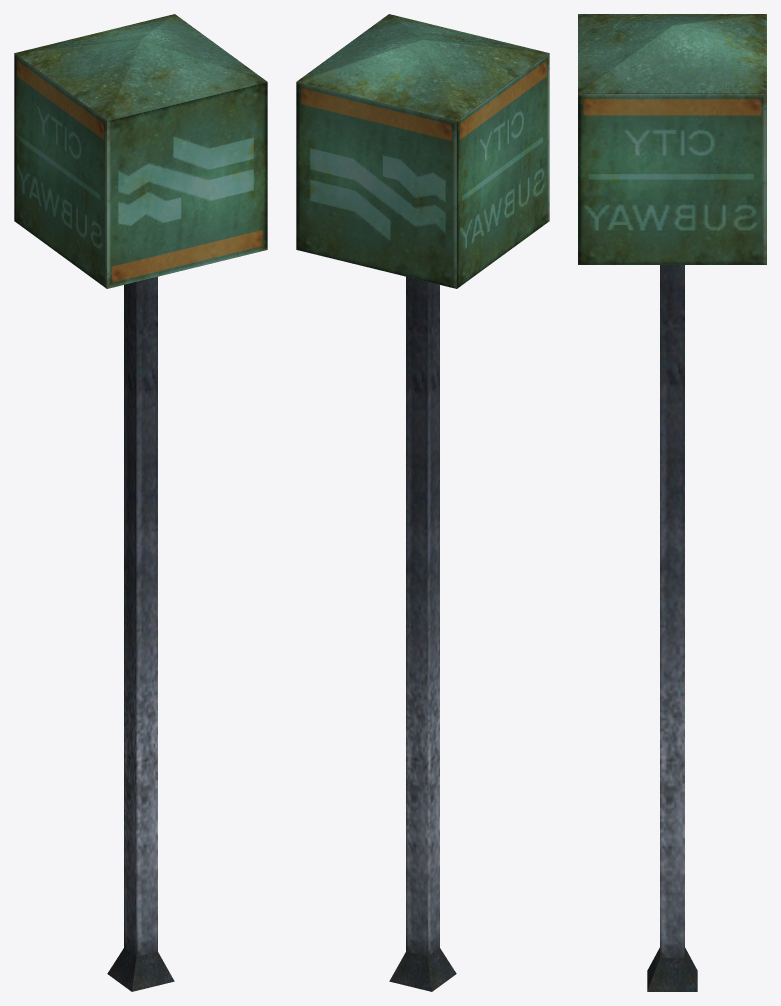
Rendered from subway_sign01.fbx.
3 views of the same model, side by side, from view 1: azimuth 30°, elevation 25°; view 2: azimuth 150°, elevation 25°; view 3: azimuth 270°, elevation 25° (orthographic).
Parts seen in each view (by area): view 1: mesh_0; view 2: mesh_0; view 3: mesh_0.
Boxes of the visible parts, left/top/right/bottom form: mesh_0: left=14, top=14, right=267, bottom=991; mesh_0: left=296, top=14, right=549, bottom=991; mesh_0: left=578, top=14, right=766, bottom=991.
Bounding box in the file's own units: 120 × 670 × 120.
Materials: 1 (1 with a texture image).
